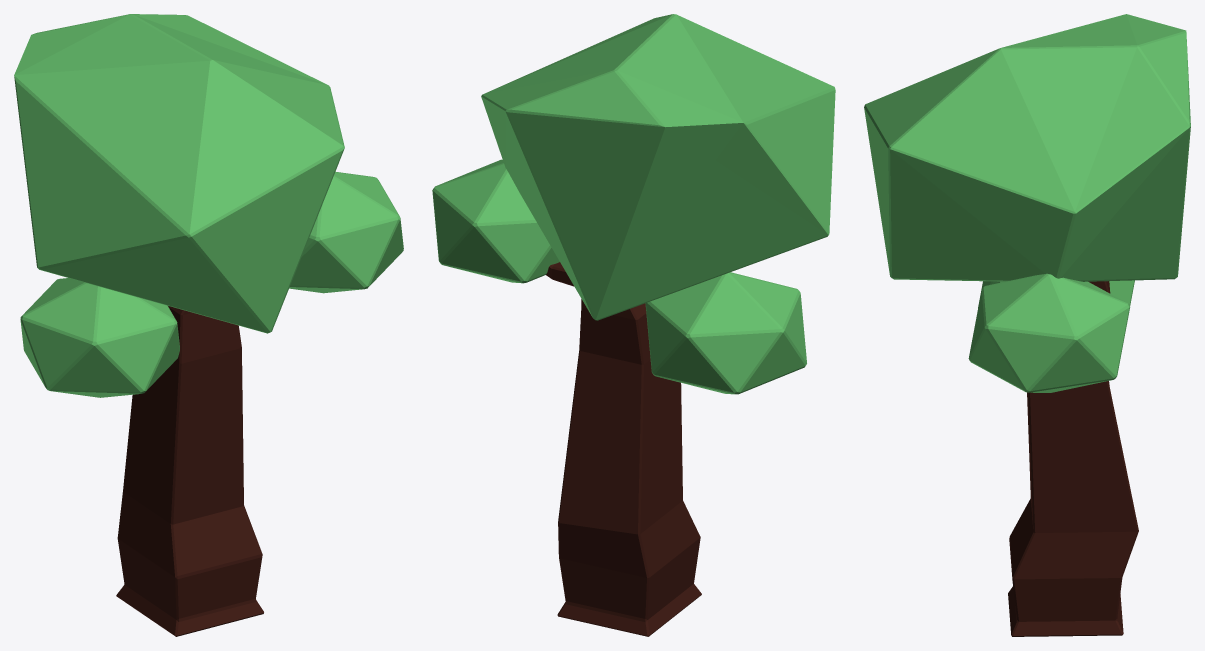
The model's file is STA_Project_Vegetations_Tree_V2.fbx.
The picture shows the model from 3 angles, left to right: view 1: azimuth 30°, elevation 25°; view 2: azimuth 150°, elevation 25°; view 3: azimuth 270°, elevation 25°; orthographic projection. The views are drawn at different scales.
Visible parts, largest first — view 1: Tree_V2; view 2: Tree_V2; view 3: Tree_V2.
Part boxes in pixels (x1,y1,x2,y2): Tree_V2: (14, 14, 403, 636); Tree_V2: (432, 14, 835, 636); Tree_V2: (864, 14, 1190, 636).
Bounding box in the file's own units: 330 × 487 × 258.
2 materials, 1 textured.
